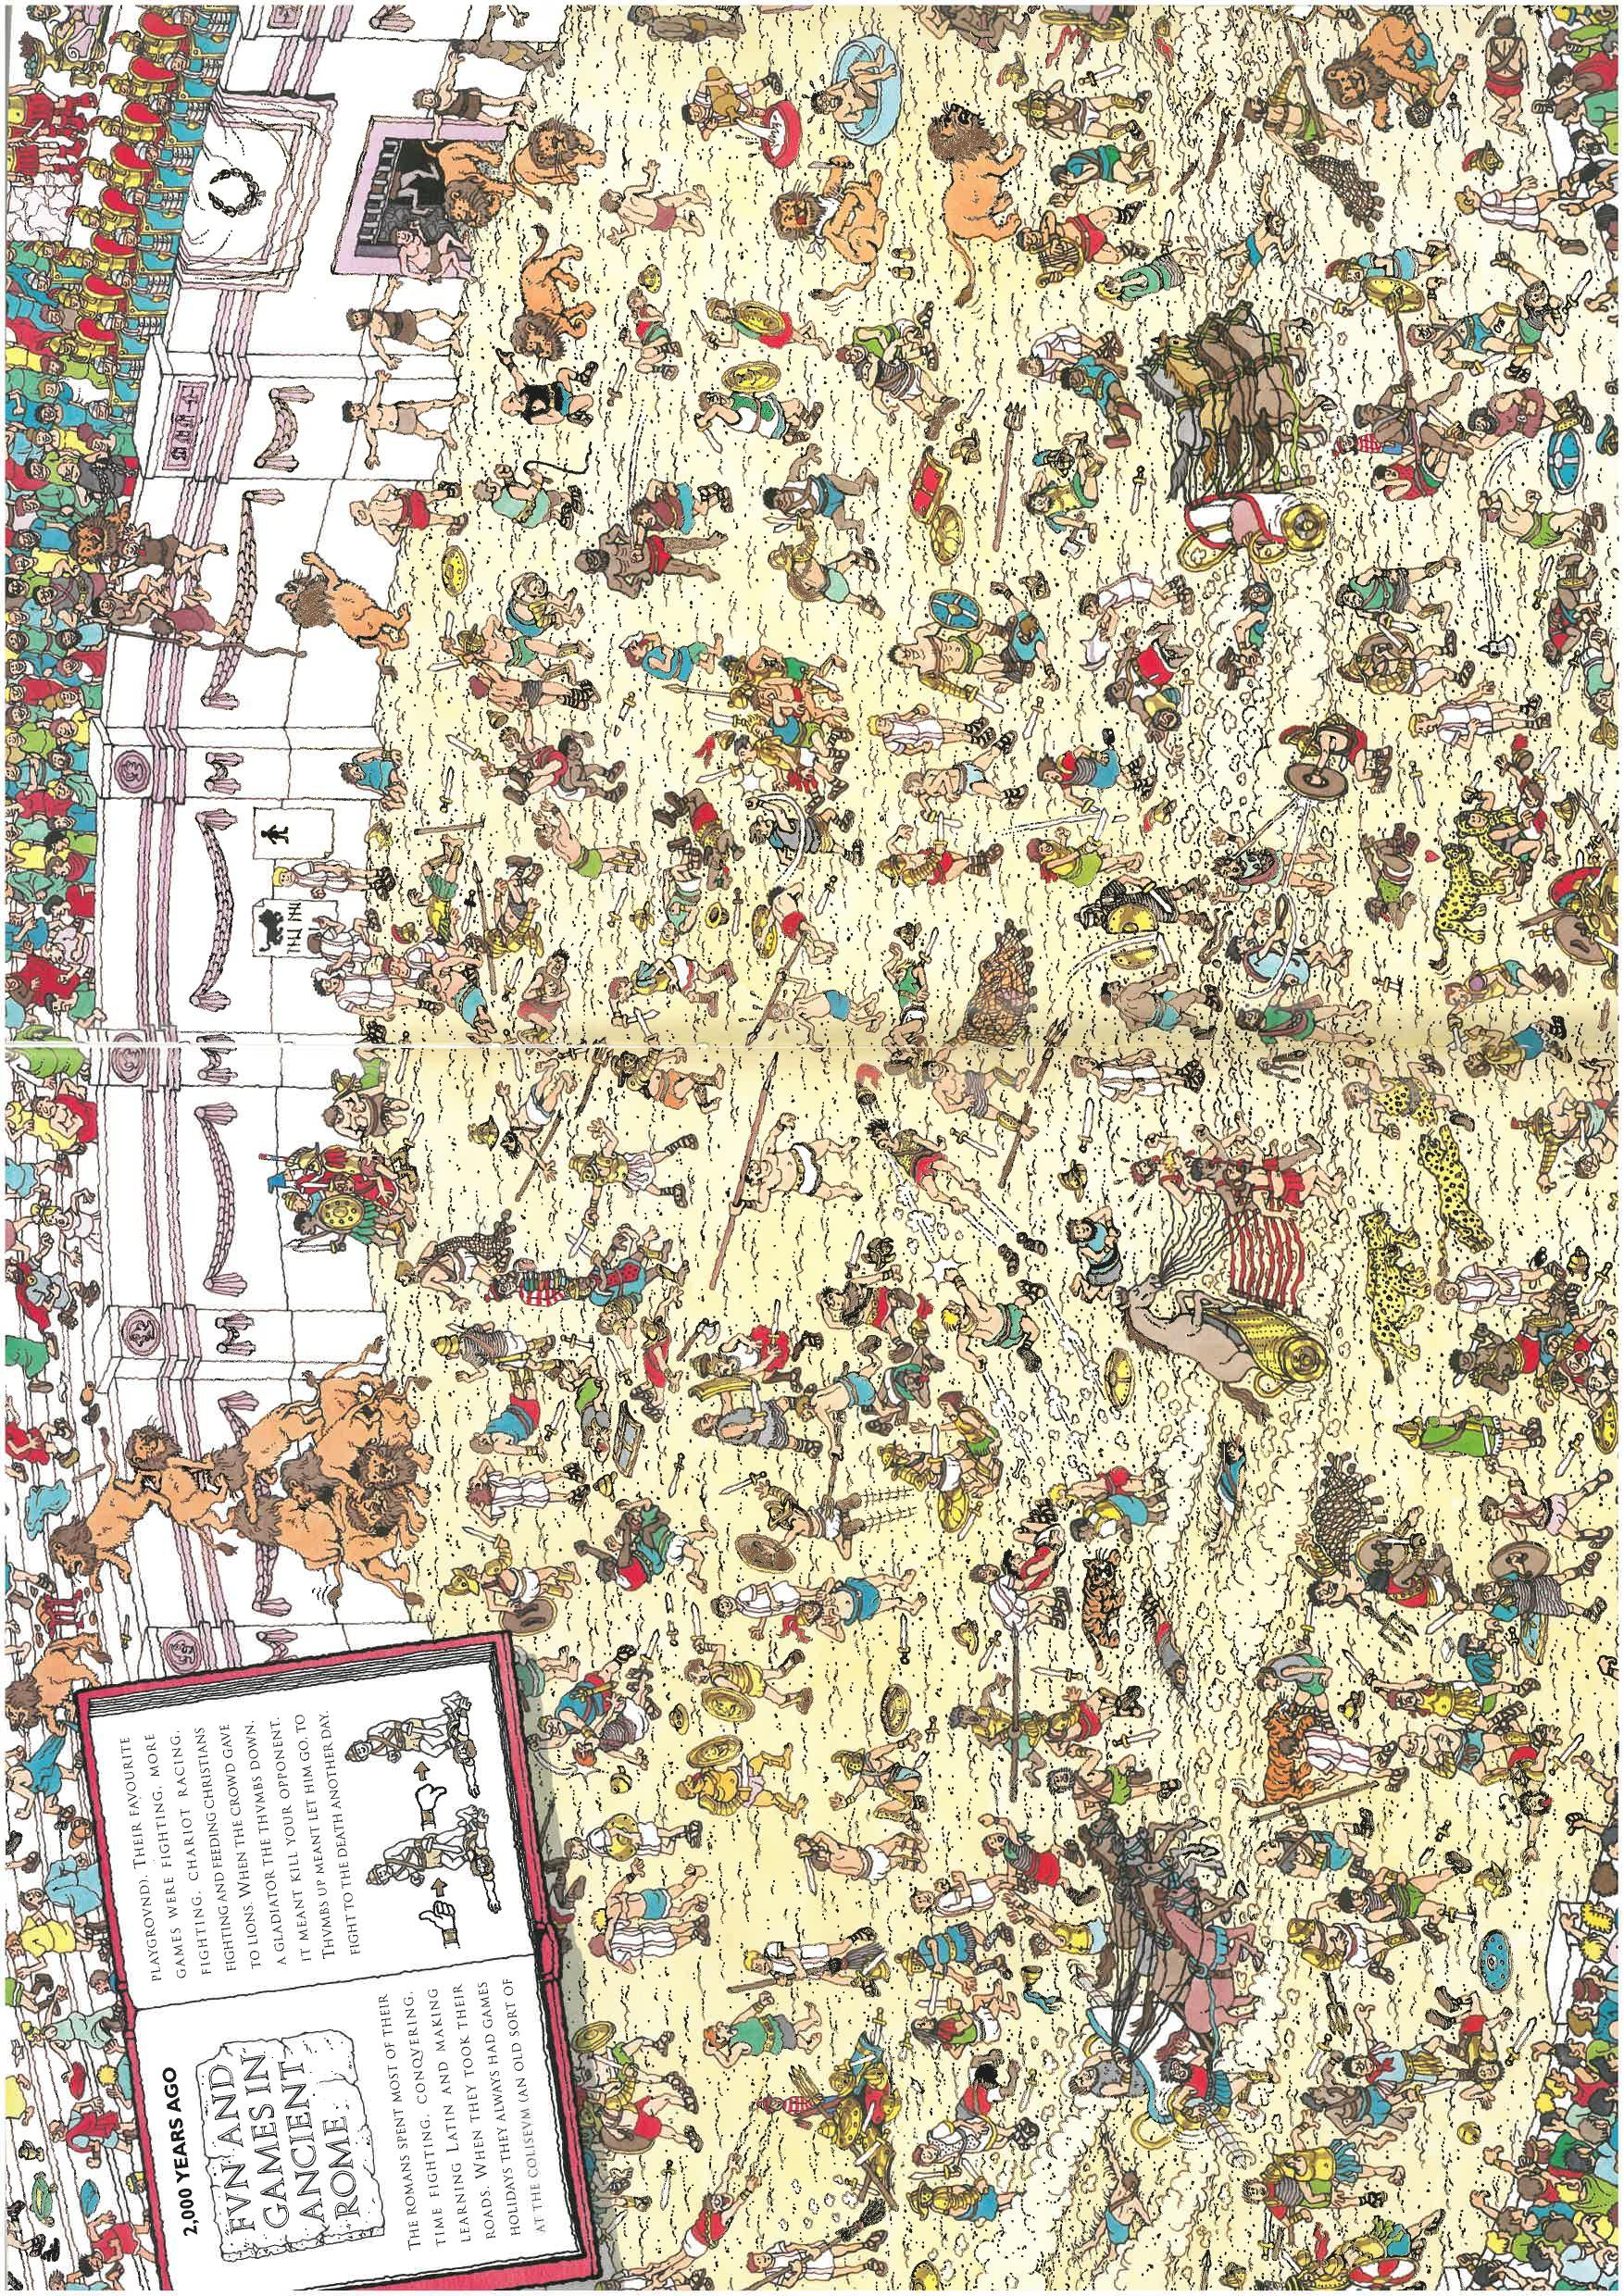waldos: (480, 1258, 585, 1307)
